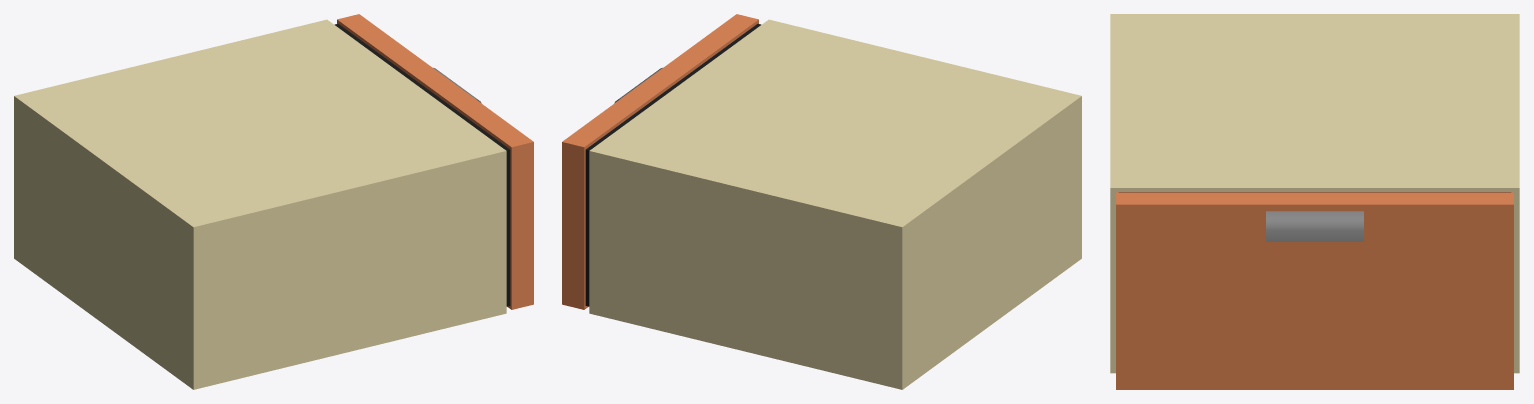
Rendered from SM_CountertopSlide_Small_01.fbx.
3 renders of one model, left to right at view 1: azimuth 30°, elevation 25°; view 2: azimuth 150°, elevation 25°; view 3: azimuth 270°, elevation 25°, orthographic. The views are drawn at different scales.
Parts seen in each view (by area): view 1: SM_CountertopSlide_Small_01; view 2: SM_CountertopSlide_Small_01; view 3: SM_CountertopSlide_Small_01.
Part boxes in pixels (bbox=[...]): SM_CountertopSlide_Small_01: bbox=[14, 14, 533, 389]; SM_CountertopSlide_Small_01: bbox=[562, 14, 1081, 389]; SM_CountertopSlide_Small_01: bbox=[1110, 14, 1519, 389].
Size of the model in its own units: 1.15 by 1 by 0.5.
